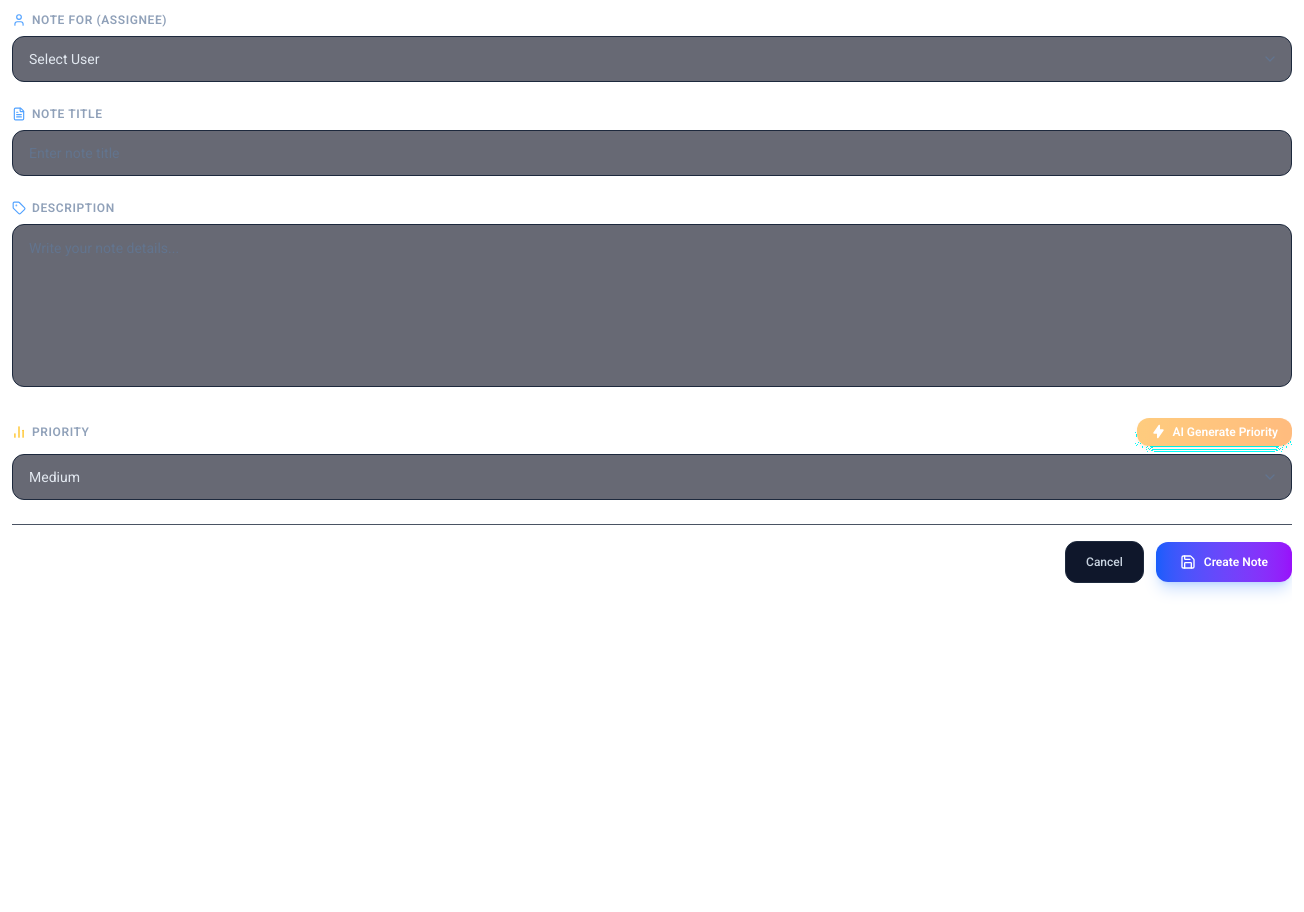
Test case: create a note › shall not create a new note and give error
This screenshot has width=1304, height=912.
Step 1. Select "john" in the dropdown labelled "Note For (Assignee)" → (652, 59), box [12,36,1292,82]
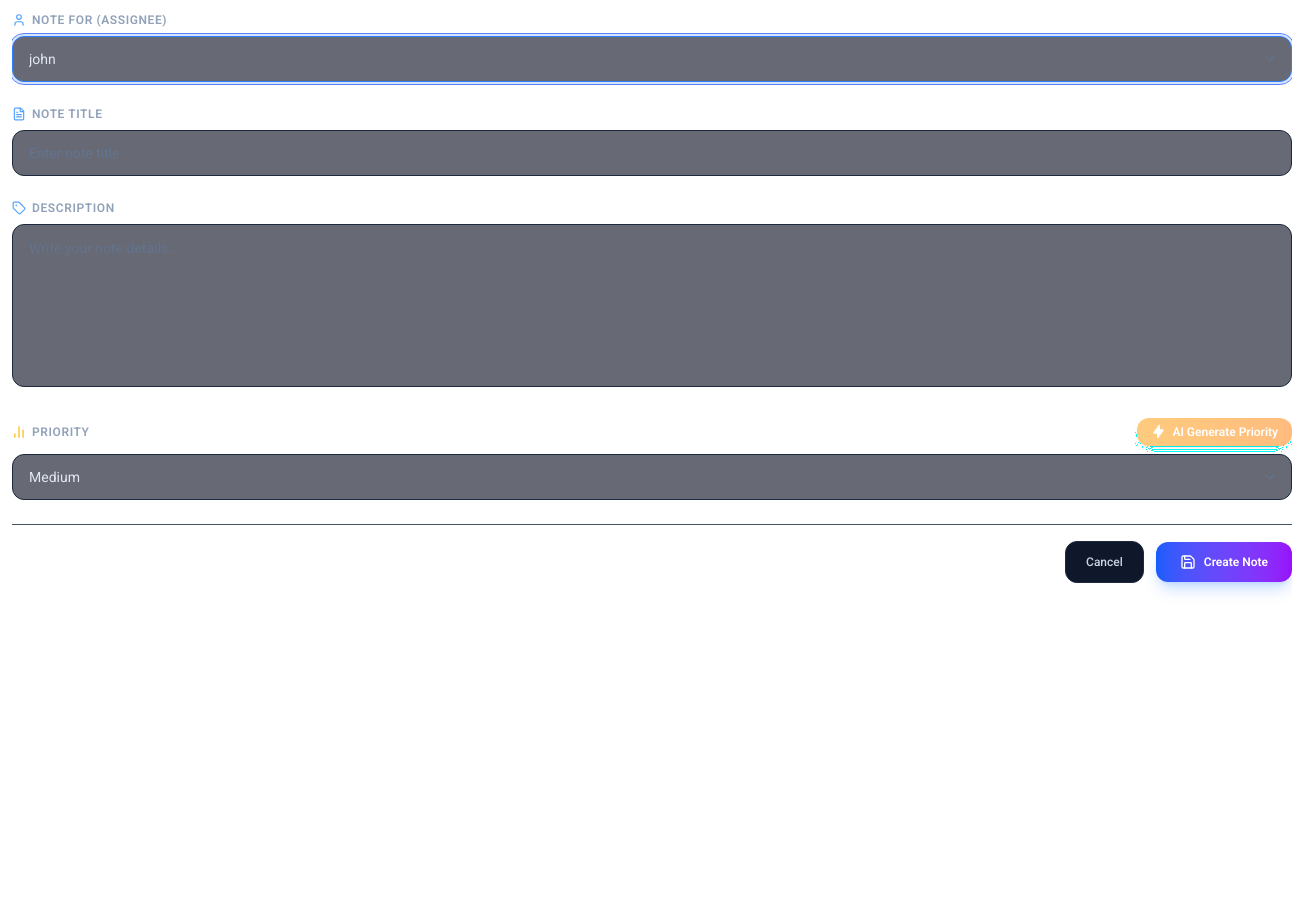
Step 2. Type "Hello" into the field with placeholder "Enter note title" → (652, 153), box [12,130,1292,176]
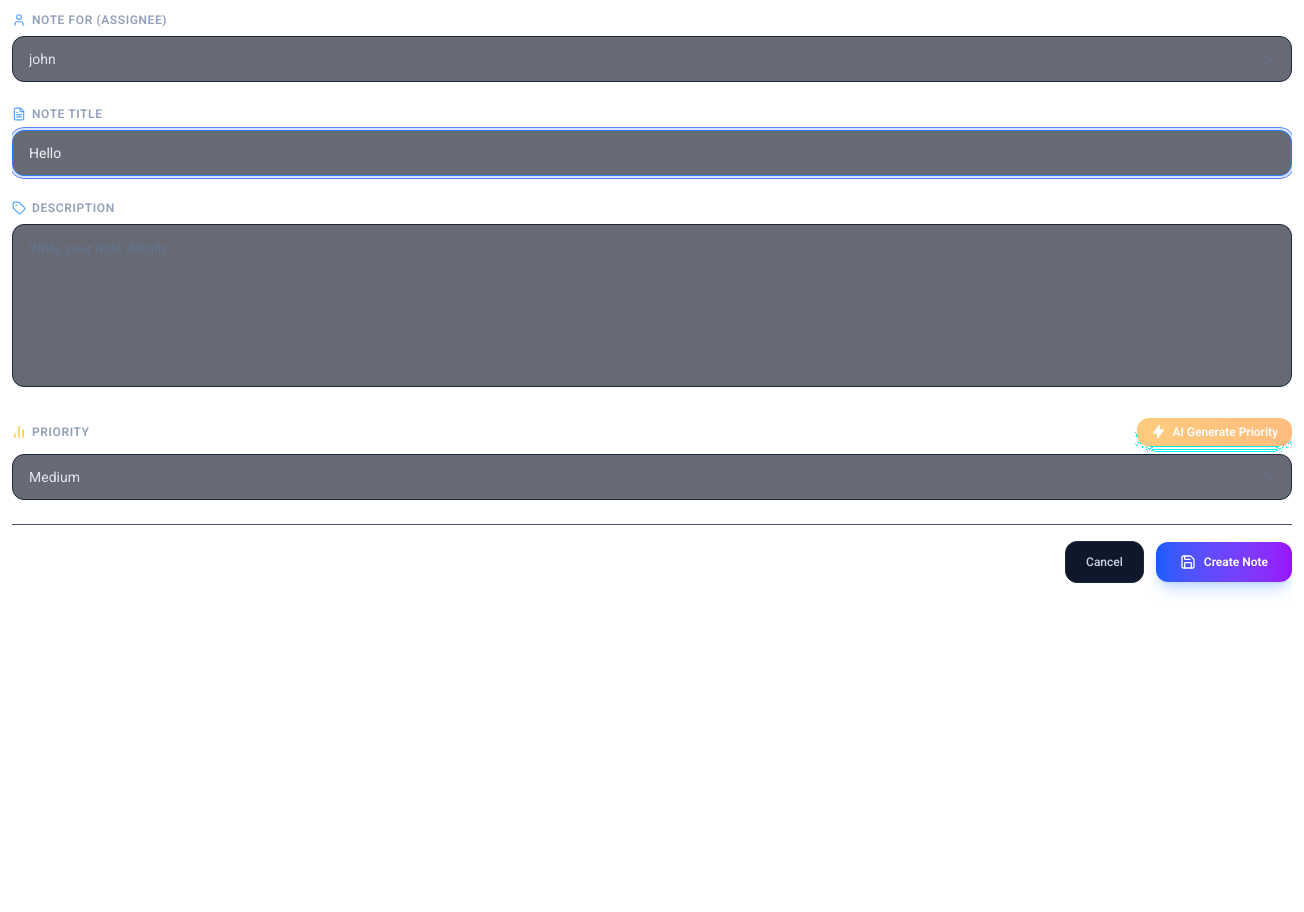
Step 3. Type "Some description" into the text box with placeholder "Write your note details..." → (652, 305), box [12,224,1292,386]
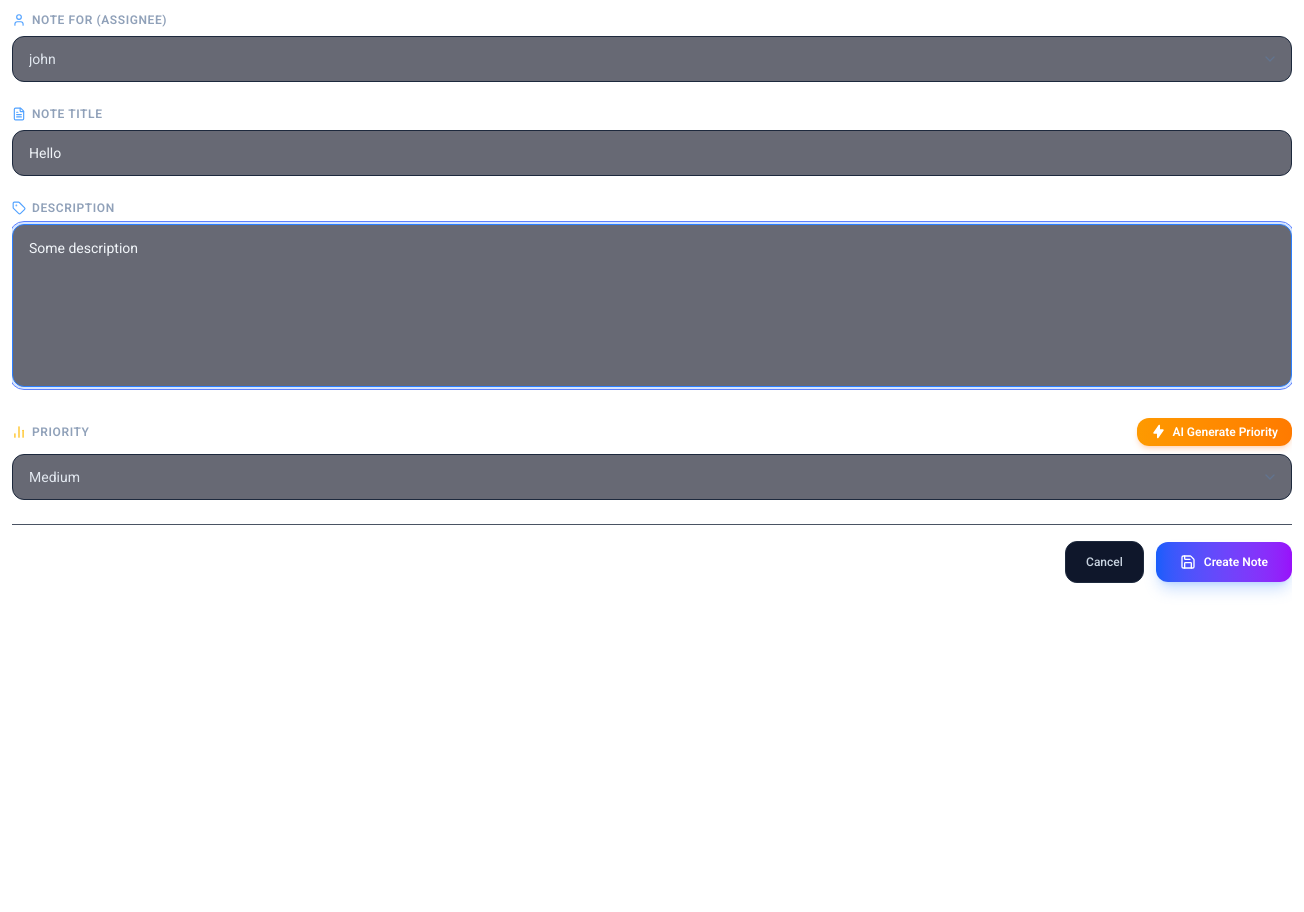
Step 4. Click the button "Create Note" → (1224, 562), box [1156,542,1292,582]
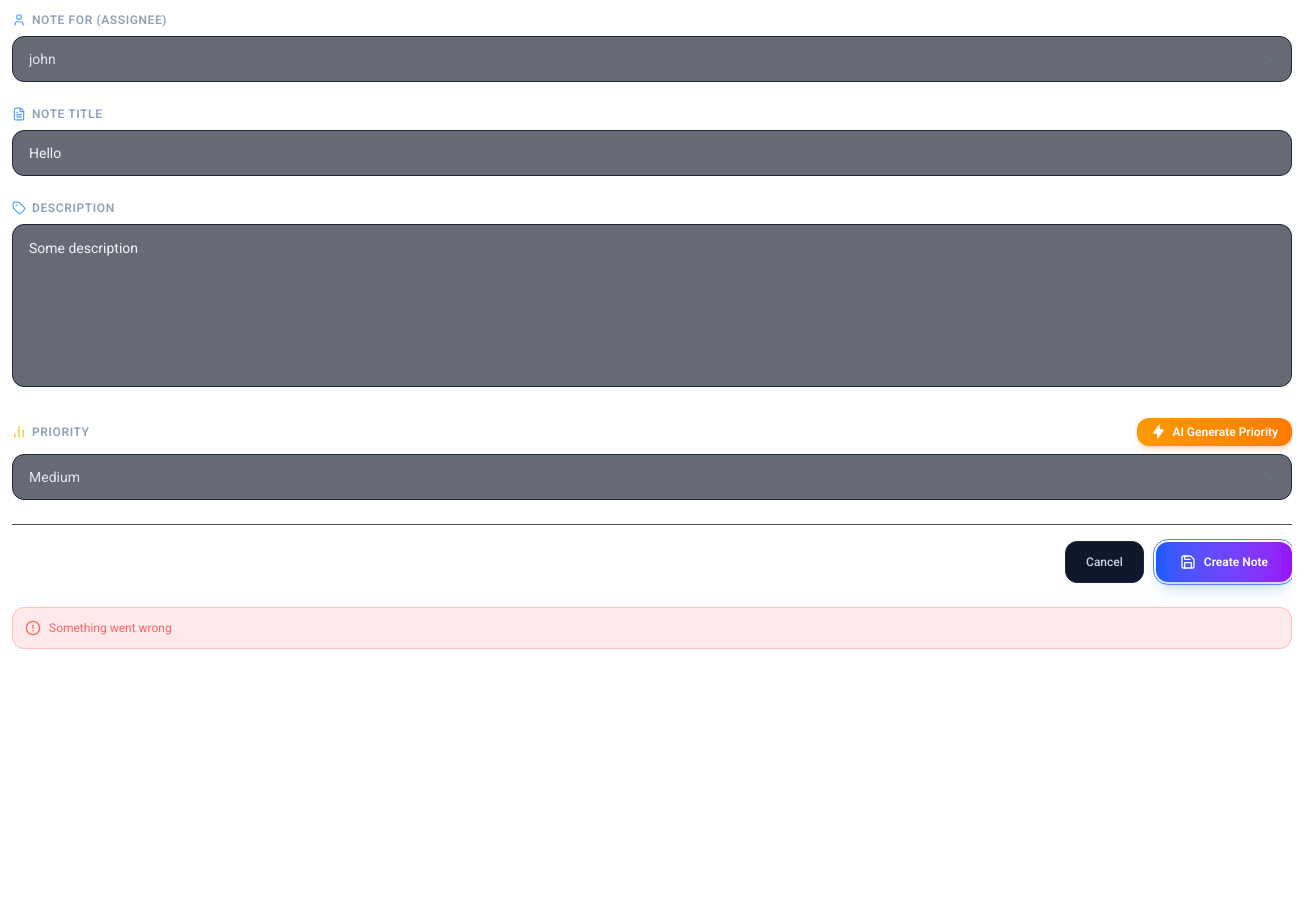
Expected: the text "Something went wrong" is shown, [49,620,172,636]
